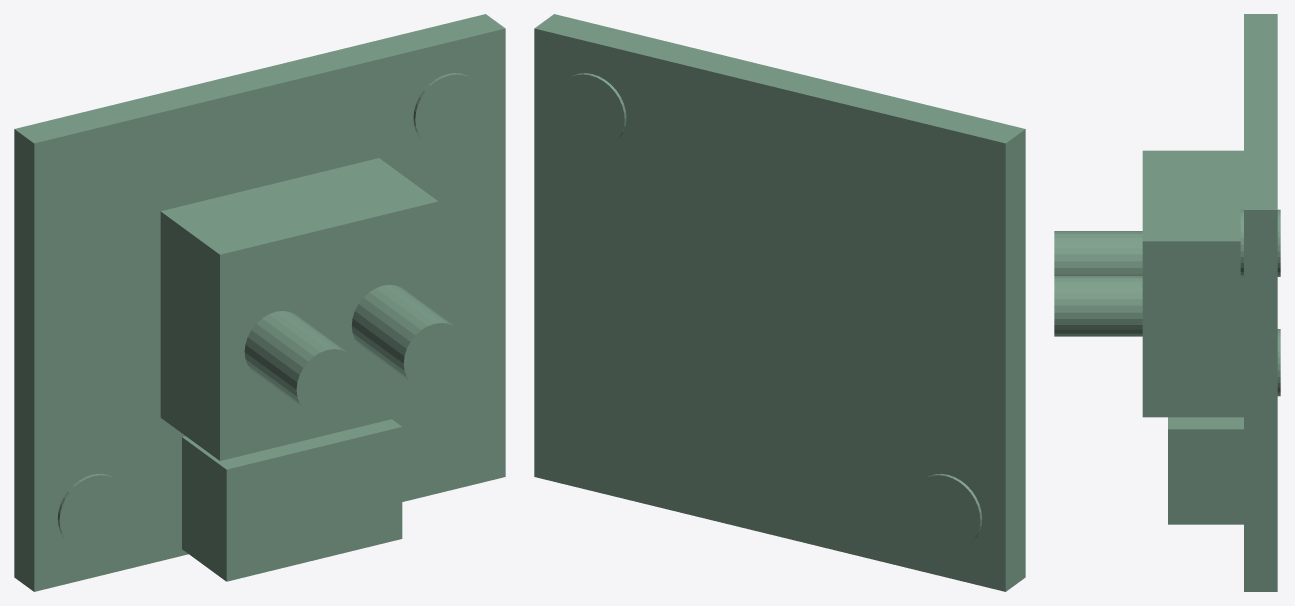
The picture shows the model from 3 angles, left to right: view 1: azimuth 30°, elevation 25°; view 2: azimuth 150°, elevation 25°; view 3: azimuth 270°, elevation 25°; orthographic projection. The views are drawn at different scales.
Parts seen in each view (by area): view 1: PCB_5, PCB_4, PCB_2, PCB_3; view 2: PCB_5; view 3: PCB_4, PCB_5, PCB_3, PCB_2, PCB.
Boxes of the visible parts, left/top/right/bottom form: PCB_5: left=14, top=14, right=505, bottom=591; PCB_4: left=160, top=158, right=438, bottom=460; PCB_2: left=182, top=419, right=402, bottom=581; PCB_3: left=244, top=285, right=452, bottom=409; PCB_5: left=534, top=14, right=1025, bottom=591; PCB_4: left=1142, top=150, right=1243, bottom=417; PCB_5: left=1244, top=14, right=1277, bottom=591; PCB_3: left=1054, top=231, right=1142, bottom=336; PCB_2: left=1168, top=417, right=1243, bottom=524; PCB: left=1240, top=209, right=1280, bottom=396.
Size of the model in its own units: 22 by 20.05 by 10.75.
